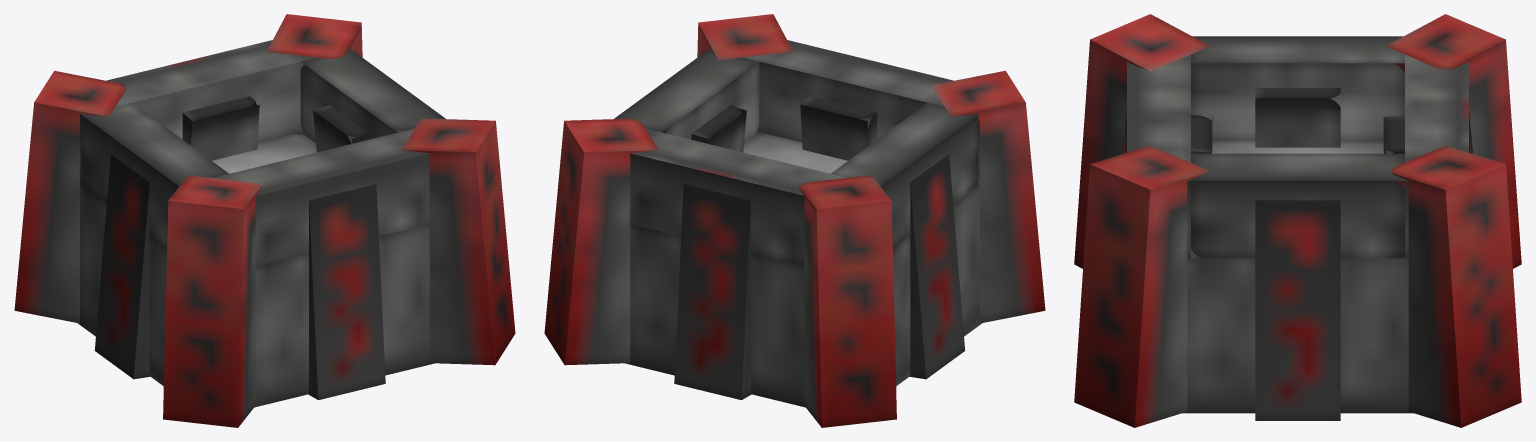
The model's file is block_altar.obj.
3 views of the same model, side by side, from view 1: azimuth 30°, elevation 25°; view 2: azimuth 150°, elevation 25°; view 3: azimuth 270°, elevation 25° (orthographic). The views are drawn at different scales.
Parts seen in each view (by area): view 1: Shape1; view 2: Shape1; view 3: Shape1.
Boxes of the visible parts, x1,y1,x2,y2 form: Shape1: [14, 14, 515, 427]; Shape1: [544, 14, 1045, 427]; Shape1: [1074, 14, 1521, 427].
Bounding box in the file's own units: 1.31 × 0.791 × 1.31.
